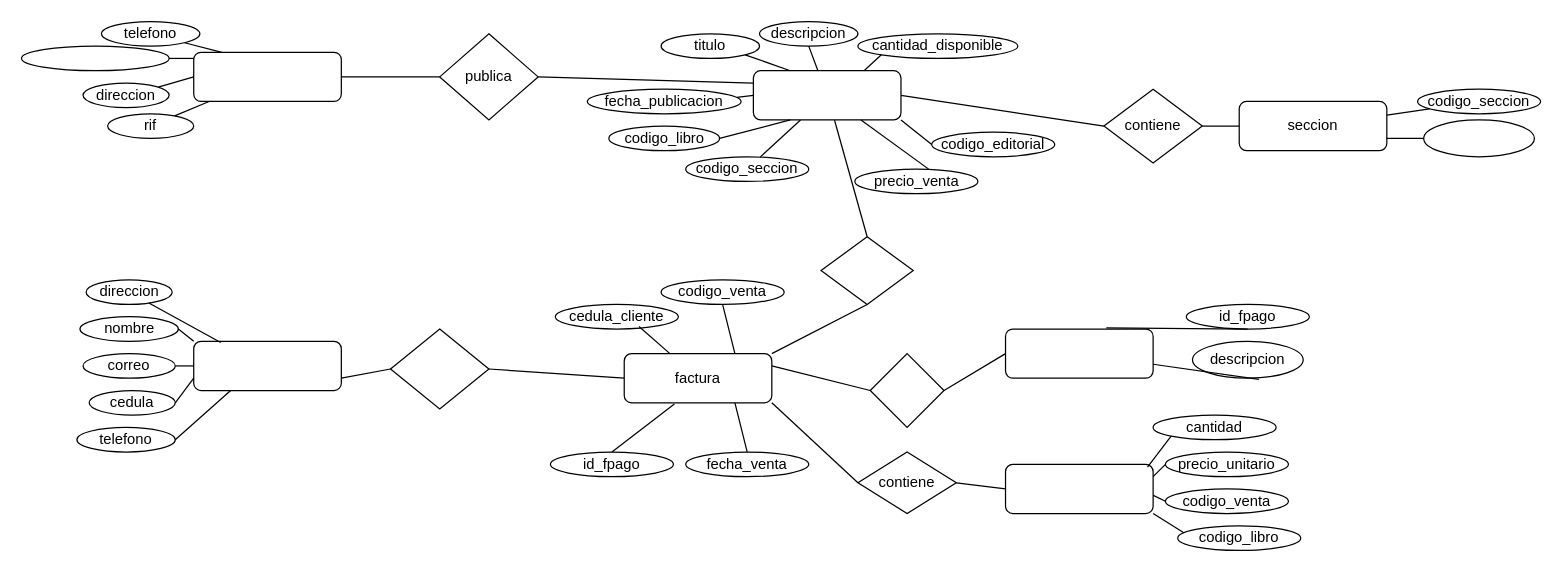
Some shapes in this 1562 by 572 pixel diagram are drawn without their labels. The shapes that lost their labels are listed below. From the top down, each one's box as (x1, y1, x2, y2) in pixels, then its label:
(20, 45, 169, 71): correo_electronico
(192, 51, 341, 101): editorial
(752, 69, 901, 120): libro
(1422, 119, 1534, 157): descripcion_s
(820, 236, 913, 304): pertenece
(192, 340, 341, 391): cliente
(389, 328, 489, 409): realiza
(1004, 328, 1153, 378): forma de pago
(869, 352, 944, 427): tiene
(1004, 463, 1153, 514): inventario libro
